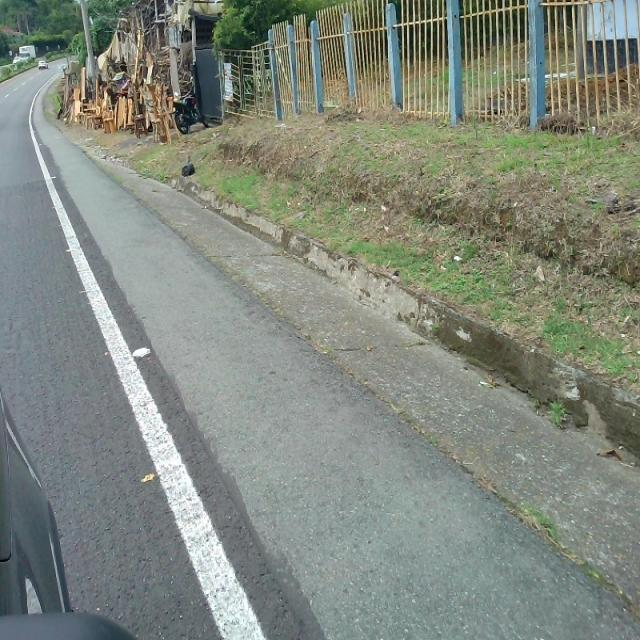DITCH: (29, 64, 638, 638), (76, 95, 638, 638)
